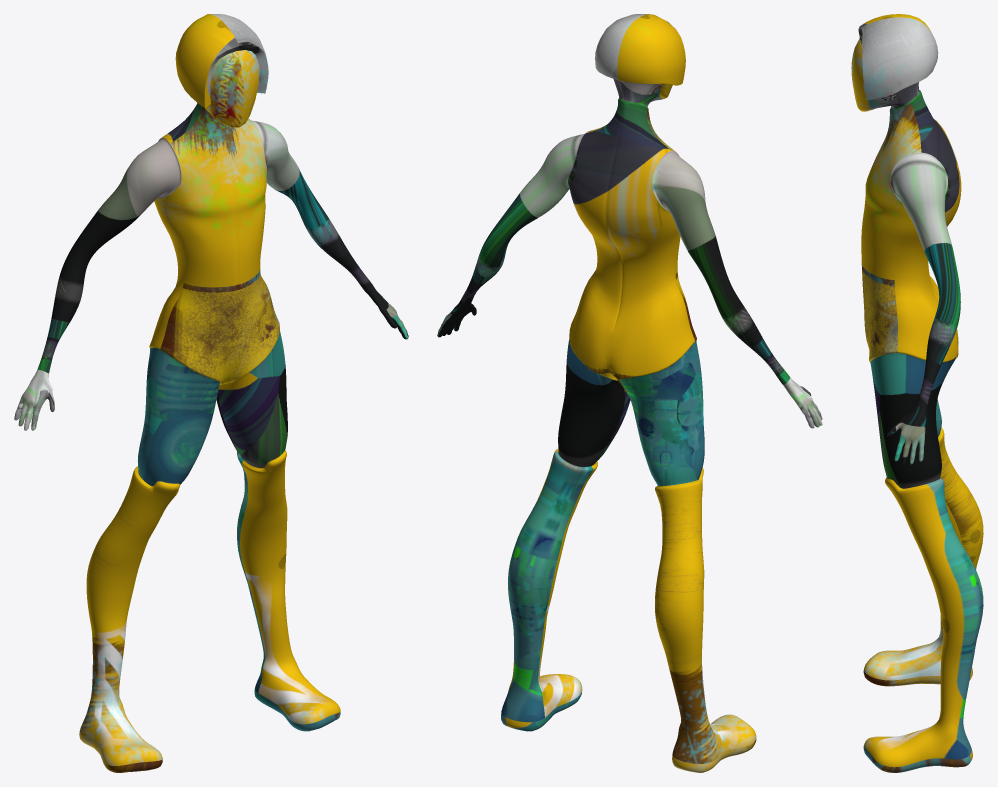
File: vendeur.fbx
3 views of the same model, side by side, from view 1: azimuth 30°, elevation 25°; view 2: azimuth 150°, elevation 25°; view 3: azimuth 270°, elevation 25° (orthographic). The views are drawn at different scales.
Visible parts, largest first — view 1: polySurface9; view 2: polySurface9; view 3: polySurface9.
Part boxes in pixels (x1,y1,x2,y2): polySurface9: (14, 14, 408, 772); polySurface9: (437, 14, 822, 772); polySurface9: (851, 14, 983, 772).
Bounding box in the file's own units: 4.98 × 8.94 × 1.52.
